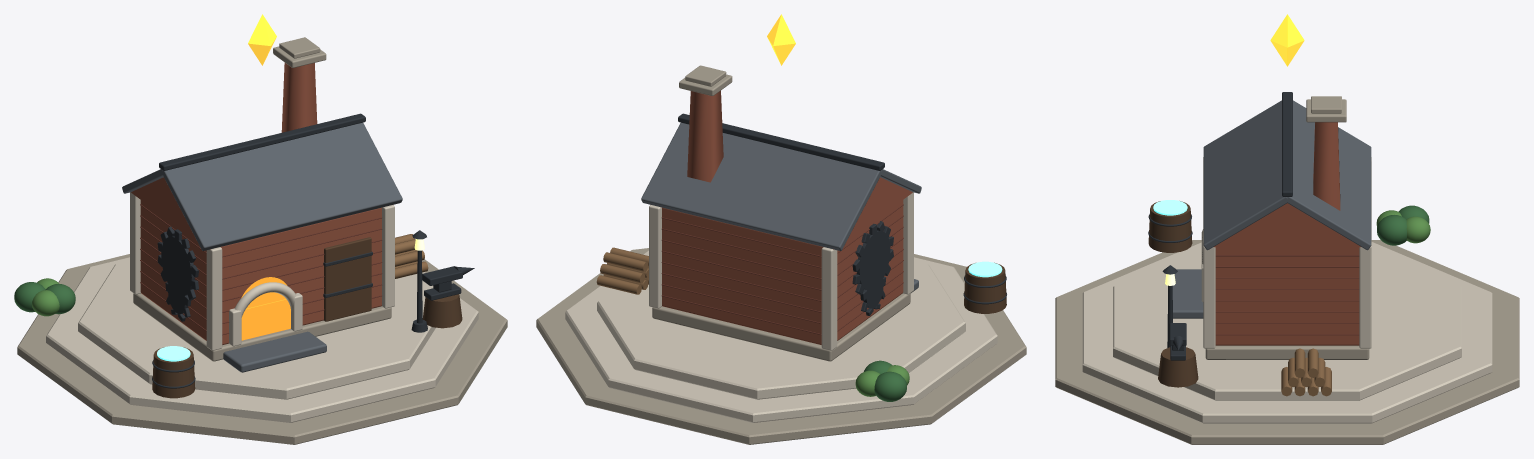
The model's file is unit04.glb.
3 renders of one model, left to right at view 1: azimuth 30°, elevation 25°; view 2: azimuth 150°, elevation 25°; view 3: azimuth 270°, elevation 25°, orthographic.
Visible parts, largest first — view 1: rw3_unit04_forge_part1, rw3_unit04_forge_part4, rw3_unit04_forge_part0, rw3_unit04_forge_part2, rw3_unit04_forge_part5, rw3_unit04_forge_part7, rw3_unit04_forge_part6, rw3_unit04_forge_part3, rw3_unit04_forge_part12, rw3_unit04_forge_part10, Crystal, rw3_unit04_forge_part11; view 2: rw3_unit04_forge_part1, rw3_unit04_forge_part2, rw3_unit04_forge_part0, rw3_unit04_forge_part4, rw3_unit04_forge_part5, rw3_unit04_forge_part3, rw3_unit04_forge_part10, rw3_unit04_forge_part7, rw3_unit04_forge_part12, Crystal, rw3_unit04_forge_part11; view 3: rw3_unit04_forge_part1, rw3_unit04_forge_part0, rw3_unit04_forge_part2, rw3_unit04_forge_part4, rw3_unit04_forge_part7, rw3_unit04_forge_part5, rw3_unit04_forge_part3, rw3_unit04_forge_part10, rw3_unit04_forge_part12, Crystal, rw3_unit04_forge_part11, rw3_unit04_forge_part9.
Boxes of the visible parts, box(x1,y1,x2,y2) form: rw3_unit04_forge_part1: box(46, 192, 478, 422); rw3_unit04_forge_part4: box(122, 122, 402, 372); rw3_unit04_forge_part0: box(17, 37, 507, 444); rw3_unit04_forge_part2: box(131, 63, 381, 344); rw3_unit04_forge_part5: box(152, 113, 474, 388); rw3_unit04_forge_part7: box(152, 237, 462, 398); rw3_unit04_forge_part6: box(241, 277, 290, 340); rw3_unit04_forge_part3: box(140, 204, 382, 335); rw3_unit04_forge_part12: box(14, 282, 75, 314); rw3_unit04_forge_part10: box(395, 234, 428, 278); Crystal: box(248, 14, 276, 65); rw3_unit04_forge_part11: box(32, 278, 59, 316); rw3_unit04_forge_part1: box(565, 192, 997, 422); rw3_unit04_forge_part2: box(660, 90, 912, 344); rw3_unit04_forge_part0: box(536, 65, 1026, 444); rw3_unit04_forge_part4: box(641, 122, 921, 292); rw3_unit04_forge_part5: box(678, 113, 1006, 315); rw3_unit04_forge_part3: box(661, 204, 903, 335); rw3_unit04_forge_part10: box(596, 247, 648, 294); rw3_unit04_forge_part7: box(964, 262, 1006, 313); rw3_unit04_forge_part12: box(864, 360, 906, 401); Crystal: box(767, 14, 795, 65); rw3_unit04_forge_part11: box(855, 365, 909, 396); rw3_unit04_forge_part1: box(1082, 157, 1492, 423); rw3_unit04_forge_part0: box(1055, 96, 1519, 444); rw3_unit04_forge_part2: box(1213, 122, 1361, 345); rw3_unit04_forge_part4: box(1172, 100, 1371, 318); rw3_unit04_forge_part7: box(1148, 201, 1198, 387); rw3_unit04_forge_part5: box(1148, 92, 1292, 360); rw3_unit04_forge_part3: box(1215, 255, 1359, 335); rw3_unit04_forge_part10: box(1281, 348, 1331, 396); rw3_unit04_forge_part12: box(1377, 205, 1429, 245); Crystal: box(1270, 14, 1304, 66); rw3_unit04_forge_part11: box(1376, 210, 1430, 243); rw3_unit04_forge_part9: box(1153, 200, 1187, 215).
Size of the model in its own units: 5.95 by 4.71 by 5.95.
